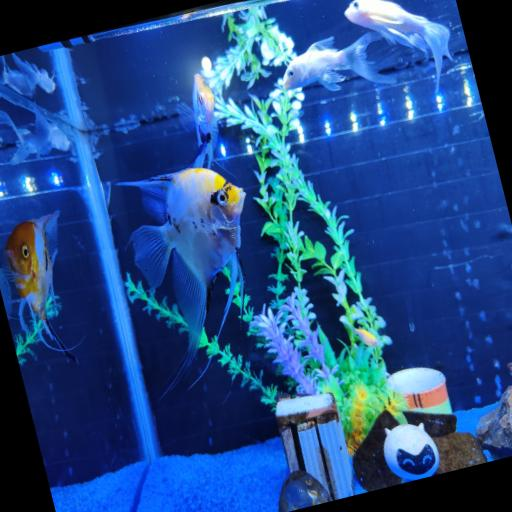Fish: (119, 168, 245, 367), (5, 212, 76, 362), (345, 0, 452, 91), (283, 33, 396, 91), (0, 108, 70, 165), (177, 74, 218, 168), (2, 53, 55, 97), (0, 267, 12, 317), (355, 328, 380, 347)
